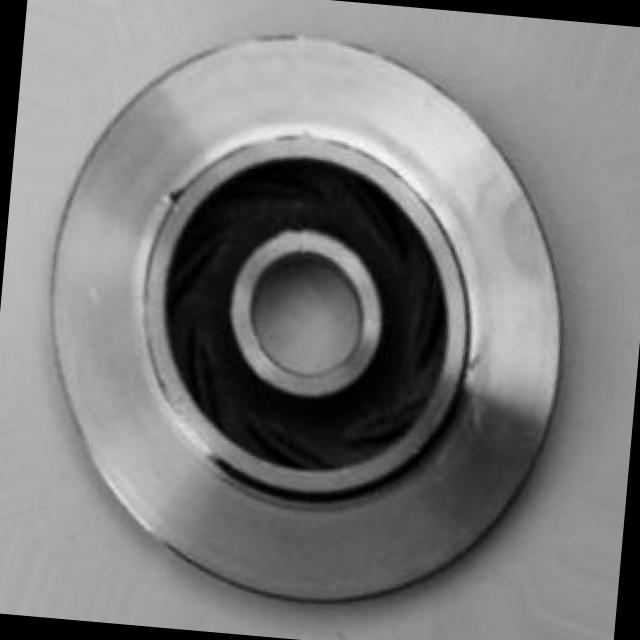Defect: (157, 185, 185, 204)
